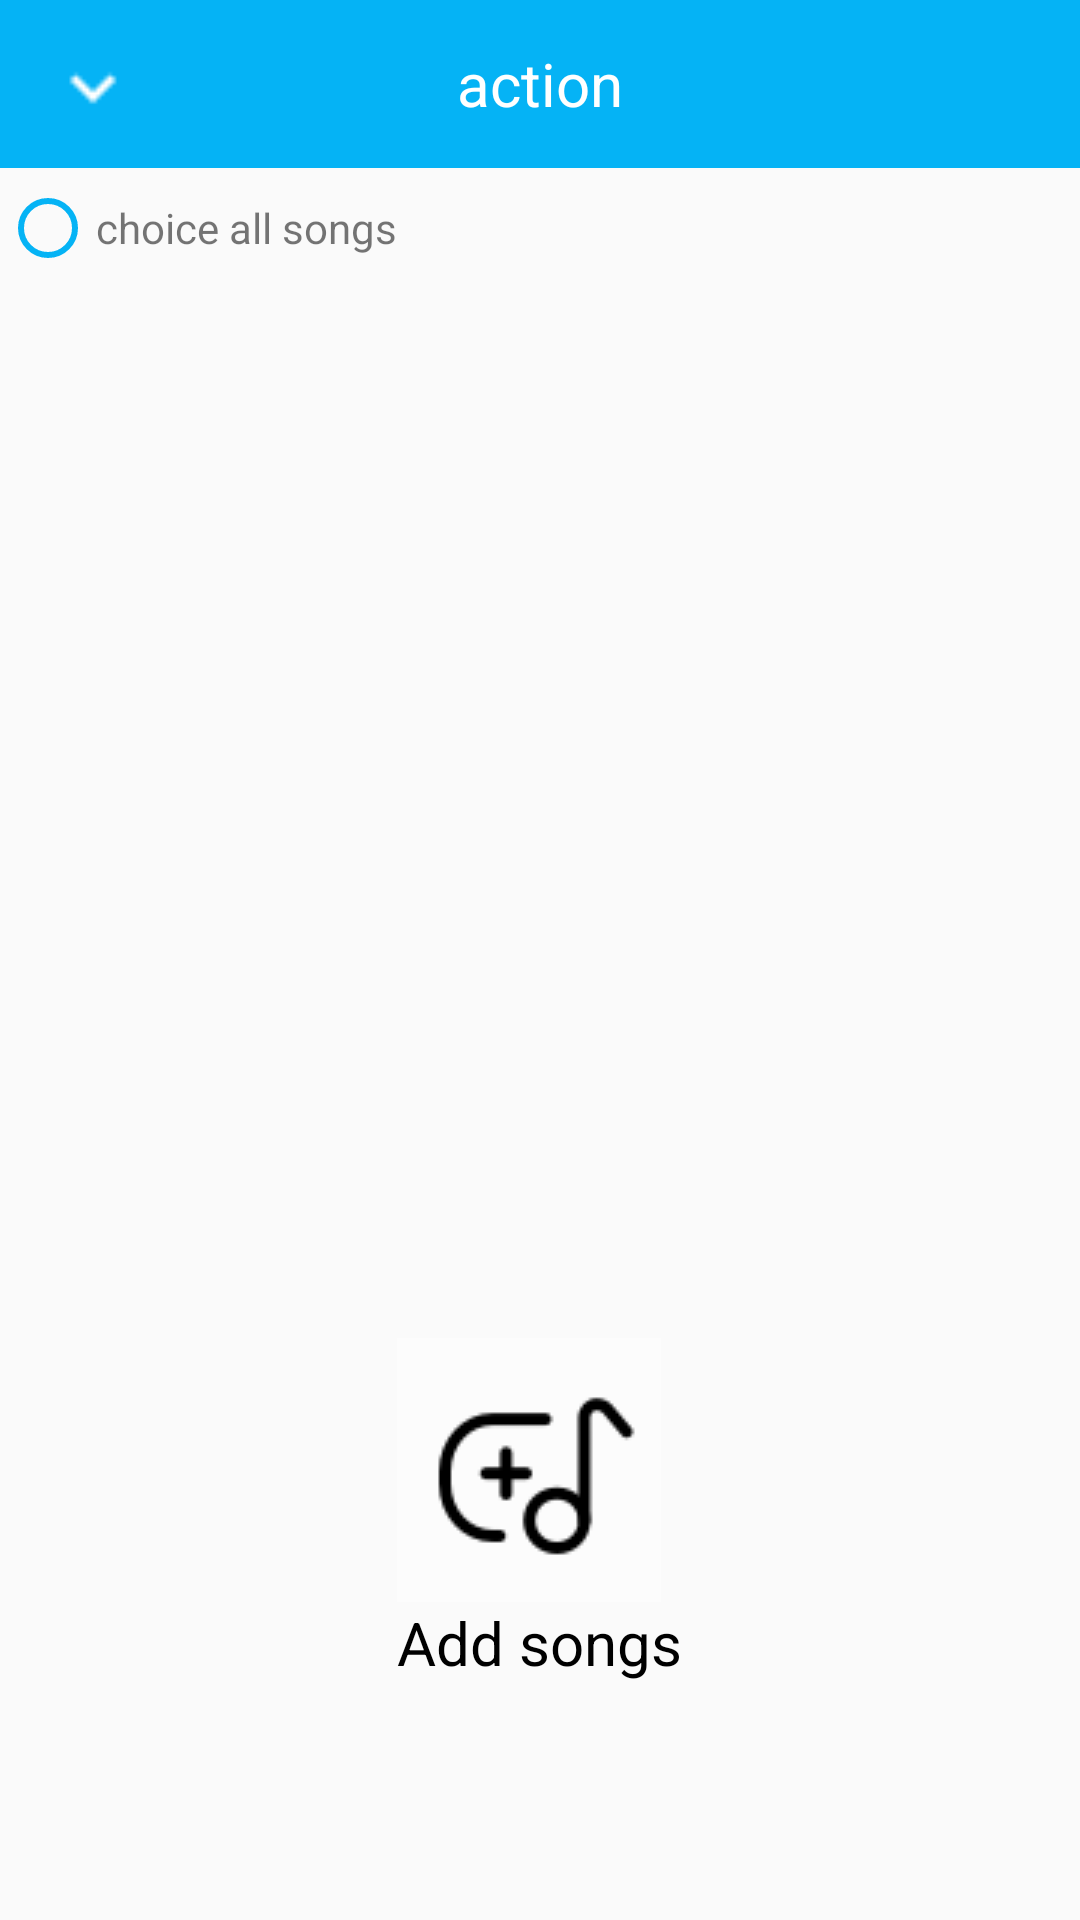

Icons on this 1080x1920 Android screen, each with the point to tap as (x=x, y=y):
down: (x=93, y=88)
